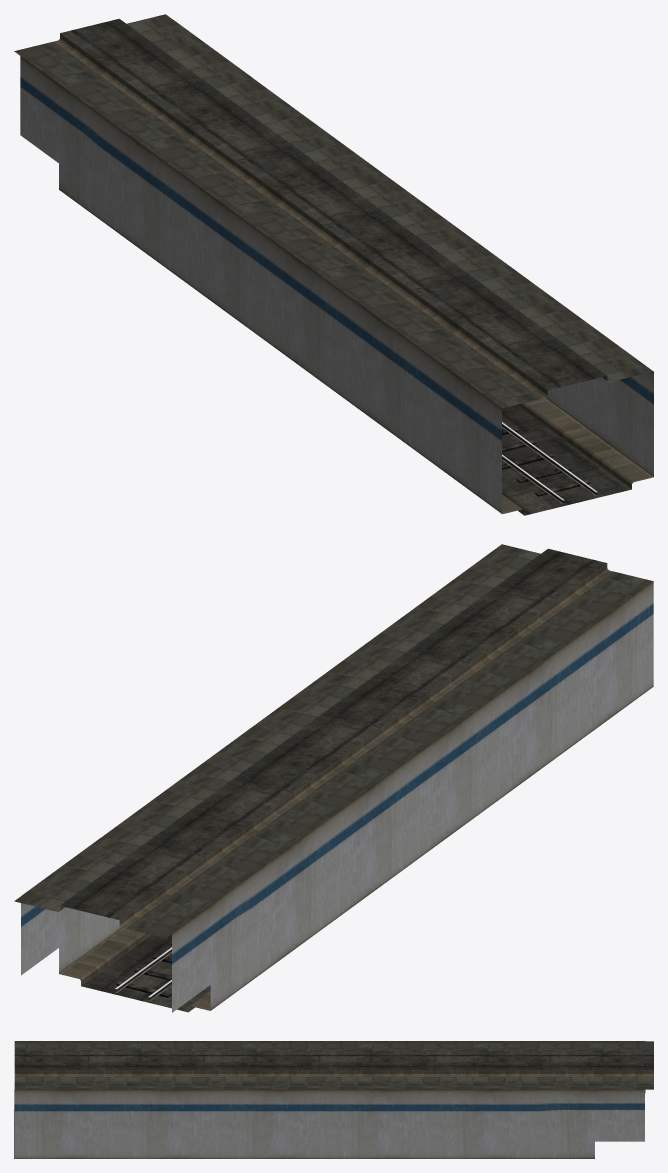
The model's file is MideTunnelState.fbx.
The picture shows the model from 3 angles, top to bottom: view 1: azimuth 30°, elevation 25°; view 2: azimuth 150°, elevation 25°; view 3: azimuth 270°, elevation 25°; orthographic projection. The views are drawn at different scales.
Visible parts, largest first — view 1: MideTunnelState; view 2: MideTunnelState; view 3: MideTunnelState.
Part boxes in pixels (<box>): MideTunnelState: <box>14,14,653,515</box>; MideTunnelState: <box>14,544,653,1012</box>; MideTunnelState: <box>14,1041,653,1158</box>.
Size of the model in its own units: 732 by 556 by 4081.
